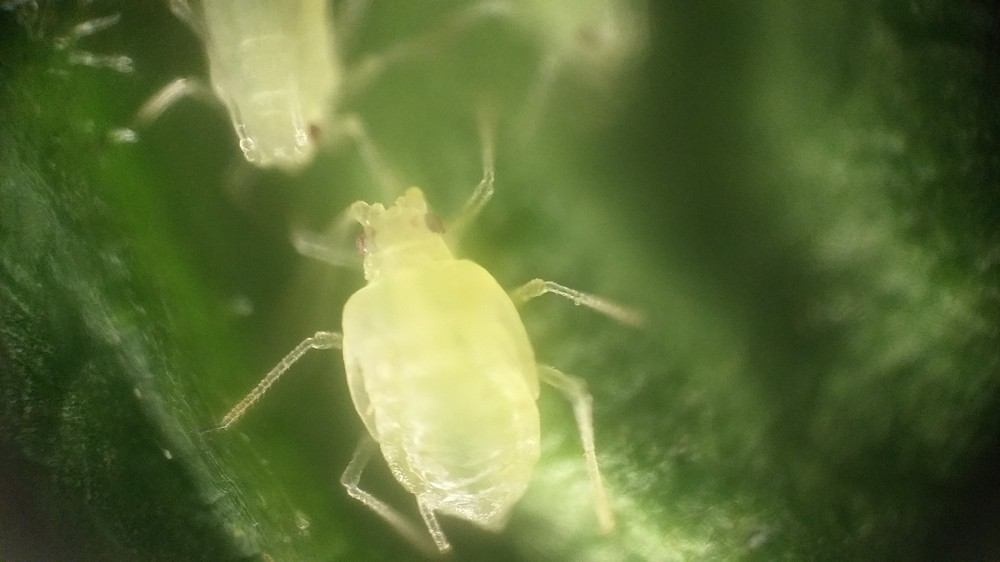Pulgon: (254, 167, 658, 561), (125, 9, 427, 189)
